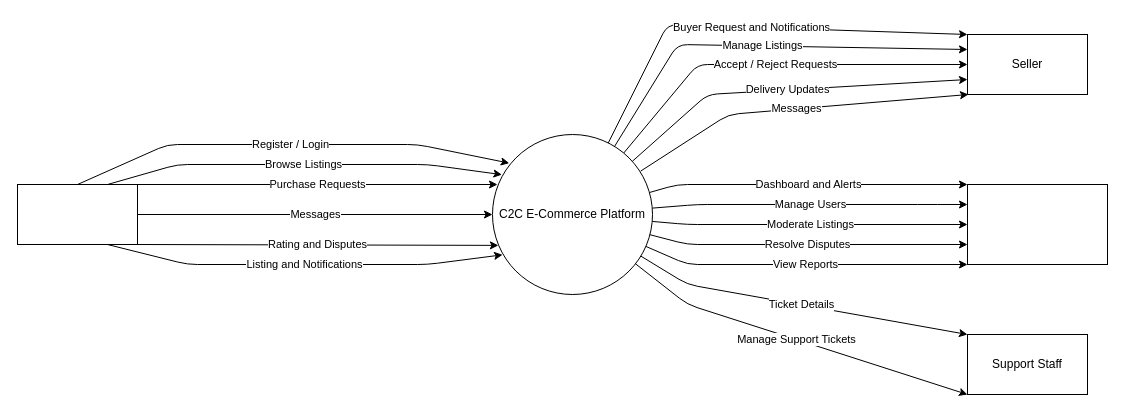
This 1125x420 diagram has some shape labels left out. The shapes that lost their labels are listed below. From the top down, each one's centre as x and y in pixels, then its label:
At (77,214): "Buyer / Customer".
At (1037,224): "Admin / Moderator".
